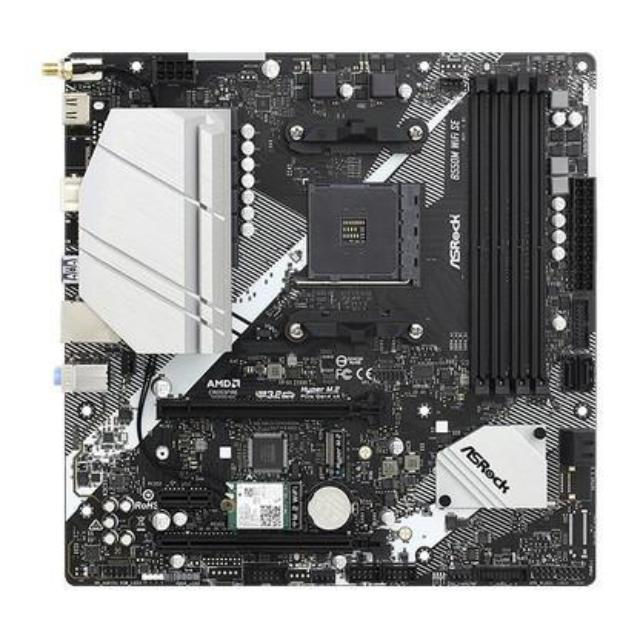Mainboard: (51, 45, 609, 597)
